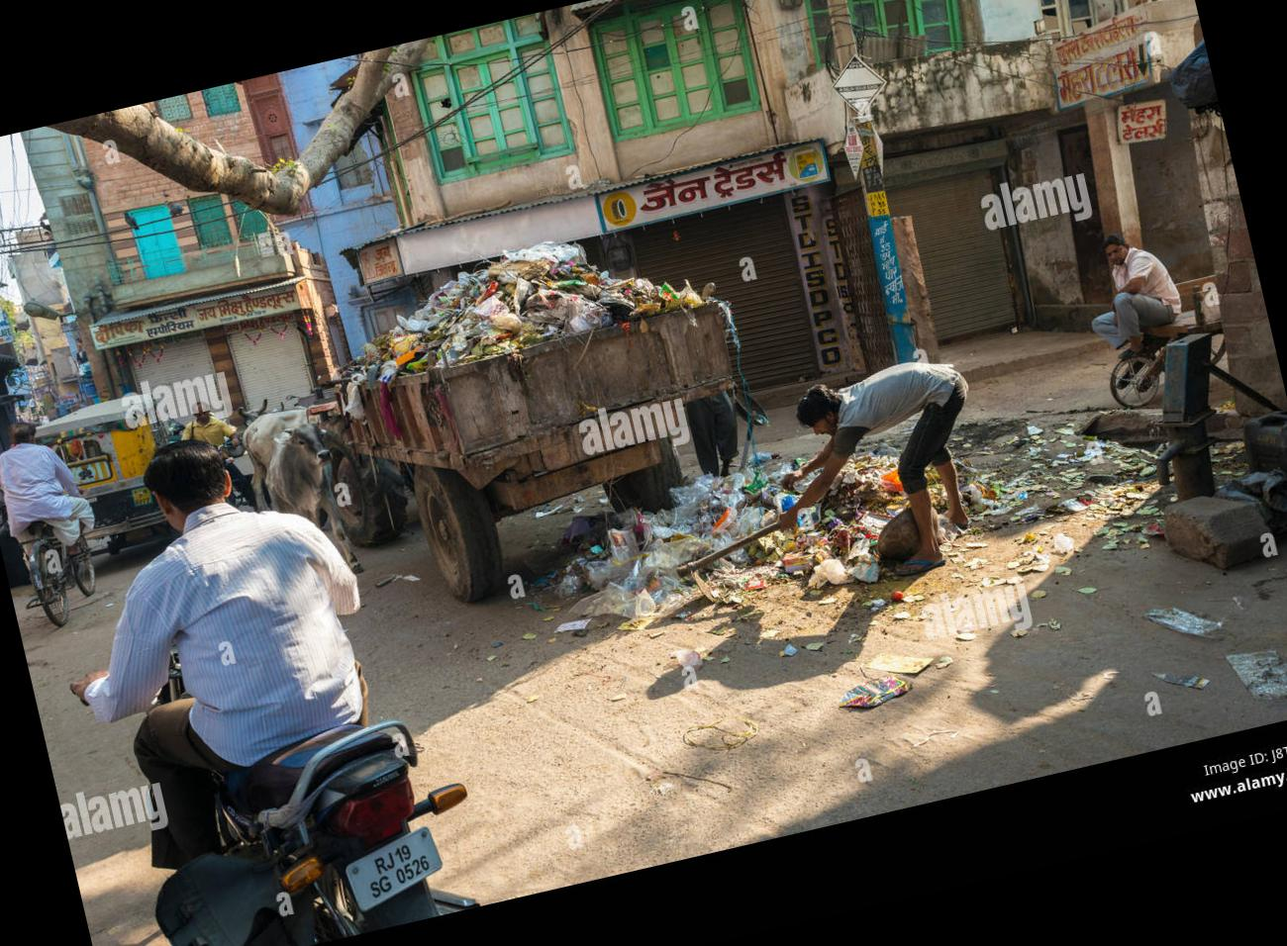road: (345, 475, 1287, 903), (10, 544, 167, 946)
trash: (349, 241, 709, 384), (643, 536, 709, 576), (671, 475, 715, 526), (606, 527, 640, 563), (753, 459, 791, 477), (796, 504, 821, 531), (742, 467, 767, 492), (773, 490, 798, 513)
